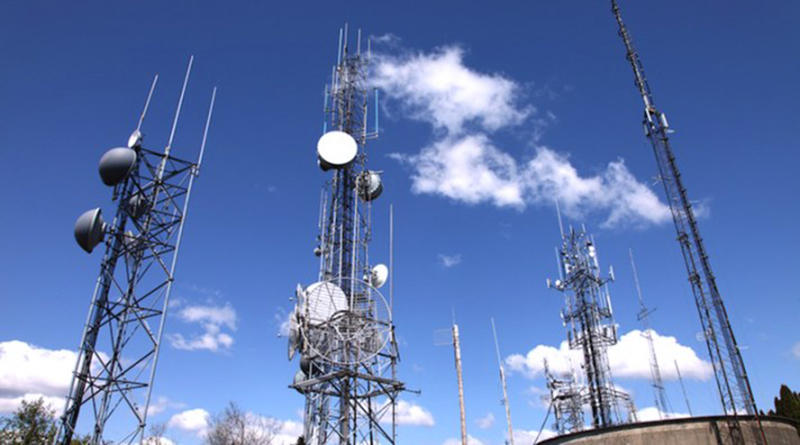b: (294, 280, 351, 326), (94, 144, 139, 189), (71, 206, 106, 257), (317, 128, 359, 170), (351, 168, 387, 203), (367, 263, 390, 288)
